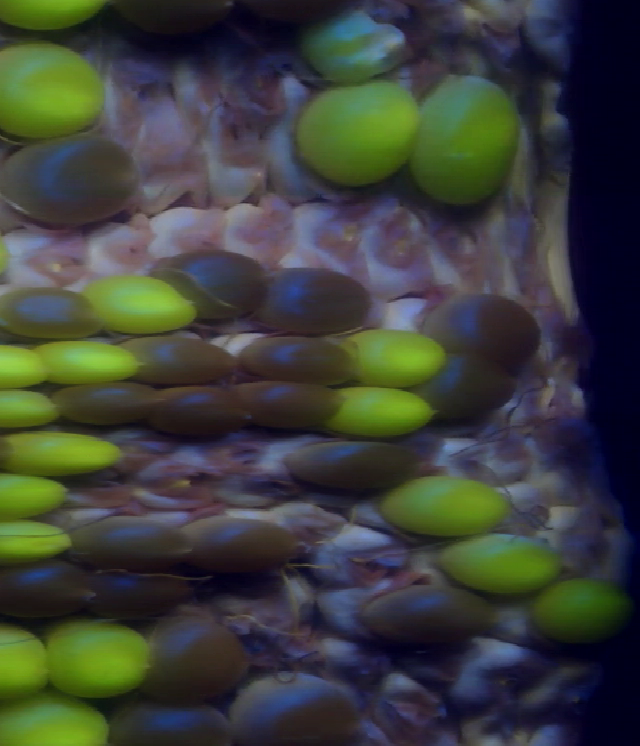fluorescent: (410, 71, 511, 208), (299, 76, 420, 186), (0, 42, 109, 138), (45, 611, 152, 700), (442, 531, 562, 596), (335, 327, 448, 393), (390, 478, 508, 538), (85, 275, 201, 336), (531, 579, 633, 647), (0, 423, 126, 476), (322, 387, 432, 441), (0, 699, 118, 746), (33, 337, 147, 383), (0, 620, 60, 704), (0, 1, 121, 39), (0, 472, 71, 521), (0, 521, 79, 565), (0, 340, 55, 390), (0, 395, 60, 429)
nonfluorescent: (3, 141, 141, 224), (232, 679, 370, 746), (356, 583, 504, 645), (147, 610, 248, 696), (420, 295, 552, 359), (268, 265, 378, 338), (182, 516, 303, 578), (157, 255, 265, 321), (420, 351, 517, 422), (289, 441, 420, 490), (125, 337, 235, 388), (0, 559, 93, 618), (110, 704, 239, 746), (0, 286, 105, 337), (159, 387, 256, 440), (102, 1, 242, 37), (75, 521, 195, 563), (86, 564, 180, 616), (244, 382, 337, 433), (243, 343, 354, 383), (64, 385, 162, 429)
